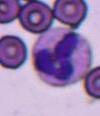N: (32, 28, 91, 88)
